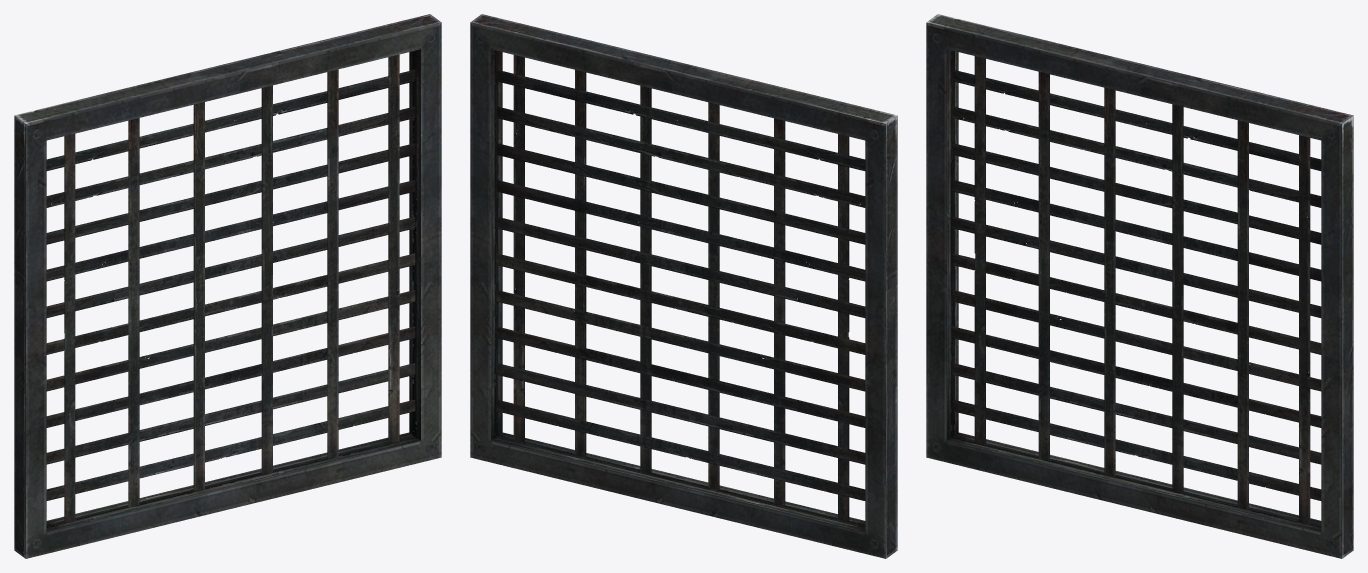
Rendered from hatch_data_tunnel.dae.
The picture shows the model from 3 angles, left to right: view 1: azimuth 30°, elevation 25°; view 2: azimuth 150°, elevation 25°; view 3: azimuth 330°, elevation 25°; orthographic projection.
Visible parts, largest first — view 1: hatch_data_tunnel; view 2: hatch_data_tunnel; view 3: hatch_data_tunnel.
Boxes of the visible parts, bbox=[...] form: hatch_data_tunnel: bbox=[14, 14, 441, 558]; hatch_data_tunnel: bbox=[470, 14, 897, 558]; hatch_data_tunnel: bbox=[926, 14, 1353, 558].
Bounding box in the file's own units: 130 × 130 × 6.84.
